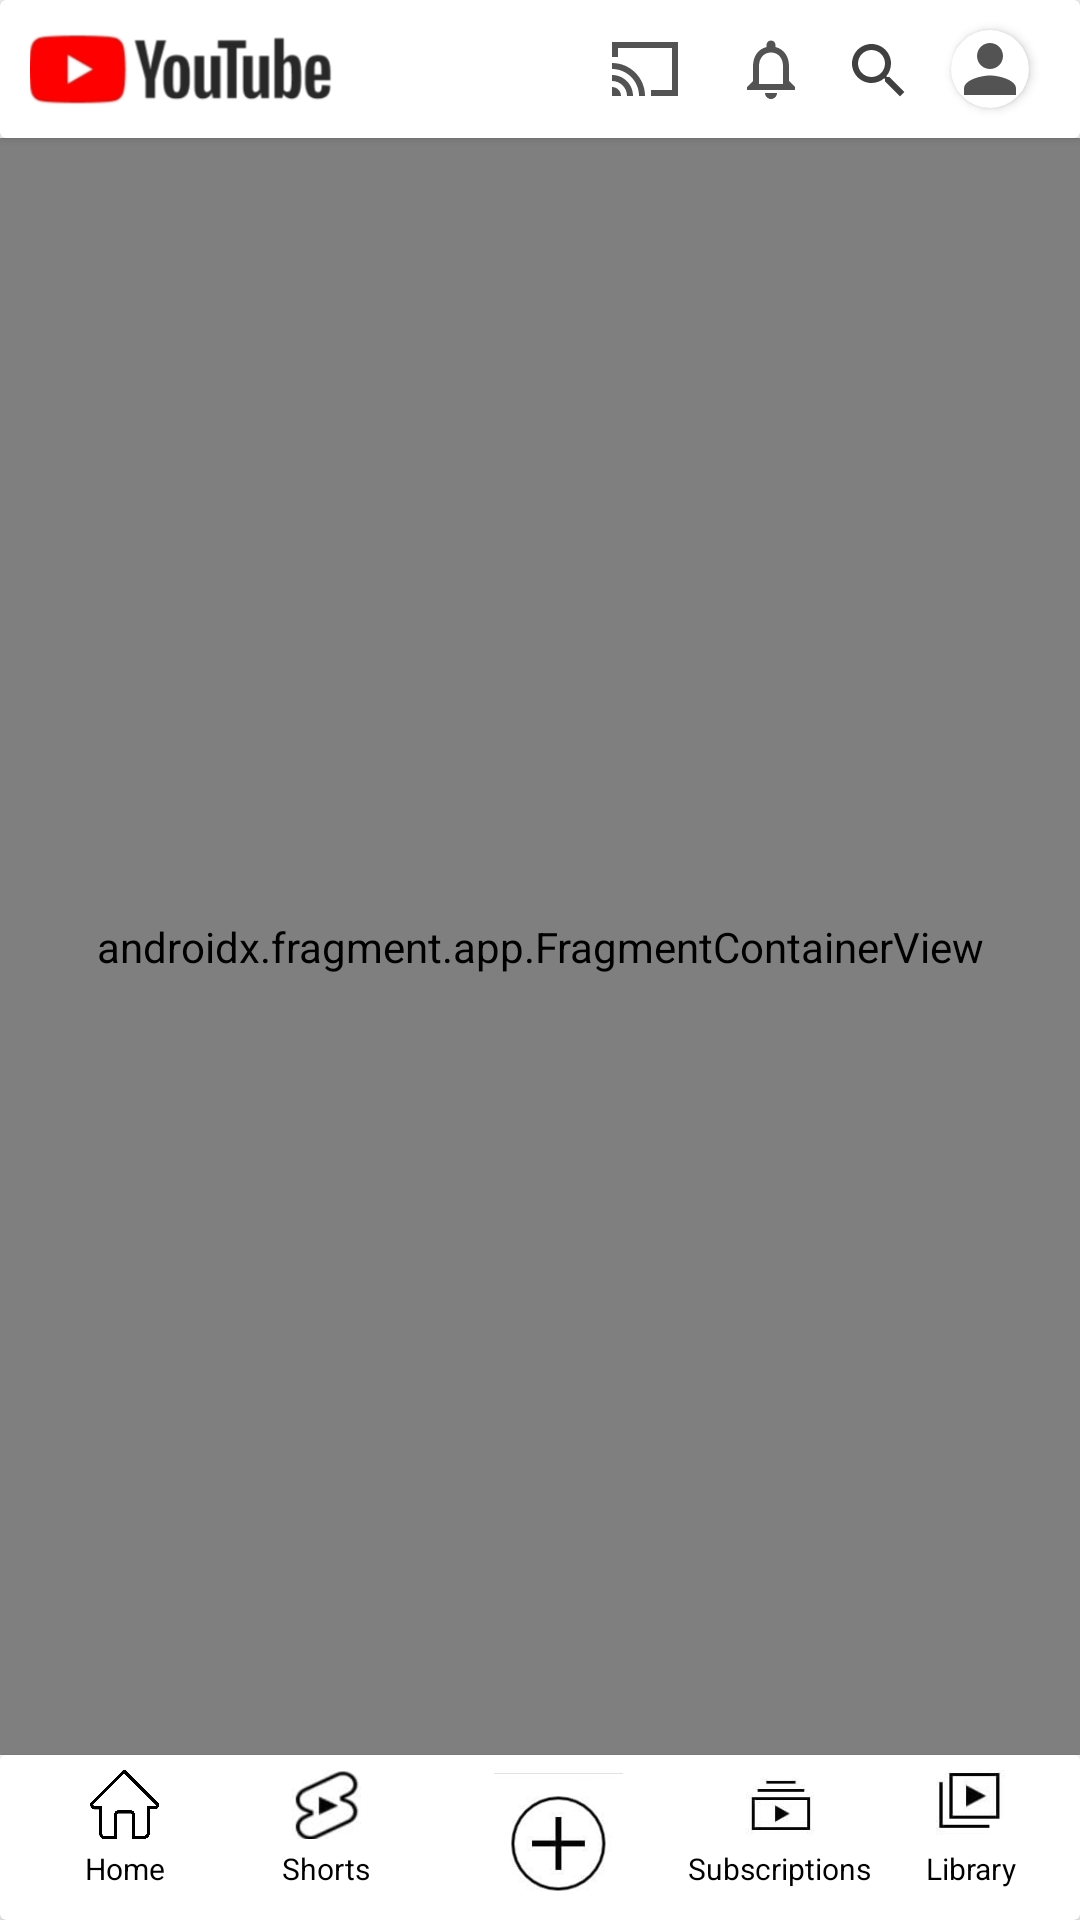

Named icons in this screenshot (1080px×1920px) and their centers, point (x, y):
cast: point (645, 69)
notifications none: point (771, 69)
person: point (996, 69)
plus: point (558, 1832)
search: point (878, 70)
